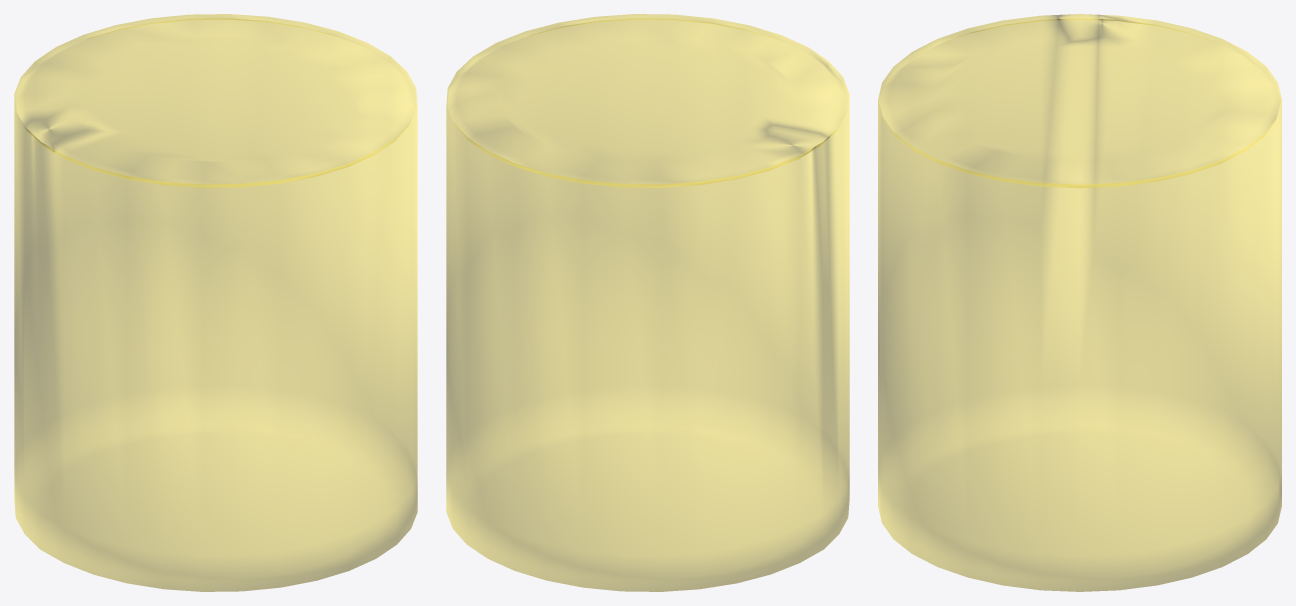
The model's file is juice1.glb.
The picture shows the model from 3 angles, left to right: view 1: azimuth 30°, elevation 25°; view 2: azimuth 150°, elevation 25°; view 3: azimuth 270°, elevation 25°; orthographic projection.
Visible parts, largest first — view 1: juice; view 2: juice; view 3: juice.
Part boxes in pixels (x1,y1,x2,y2): juice: [14, 14, 417, 591]; juice: [446, 14, 849, 591]; juice: [878, 14, 1281, 591].
Size of the model in its own units: 1.87 by 2.08 by 1.87.
